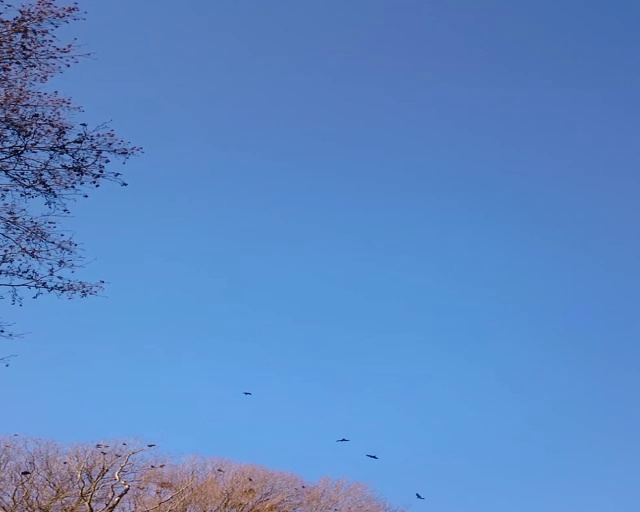BIRD: (416, 492, 425, 499)
